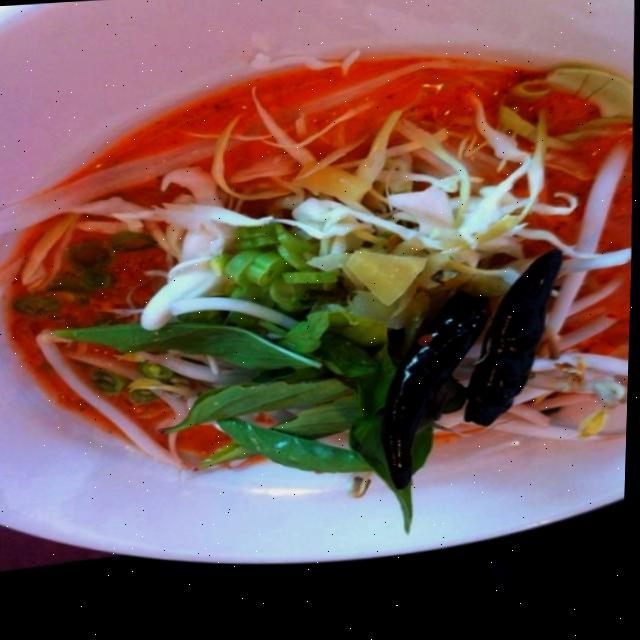面条主食: (0, 0, 640, 605)
